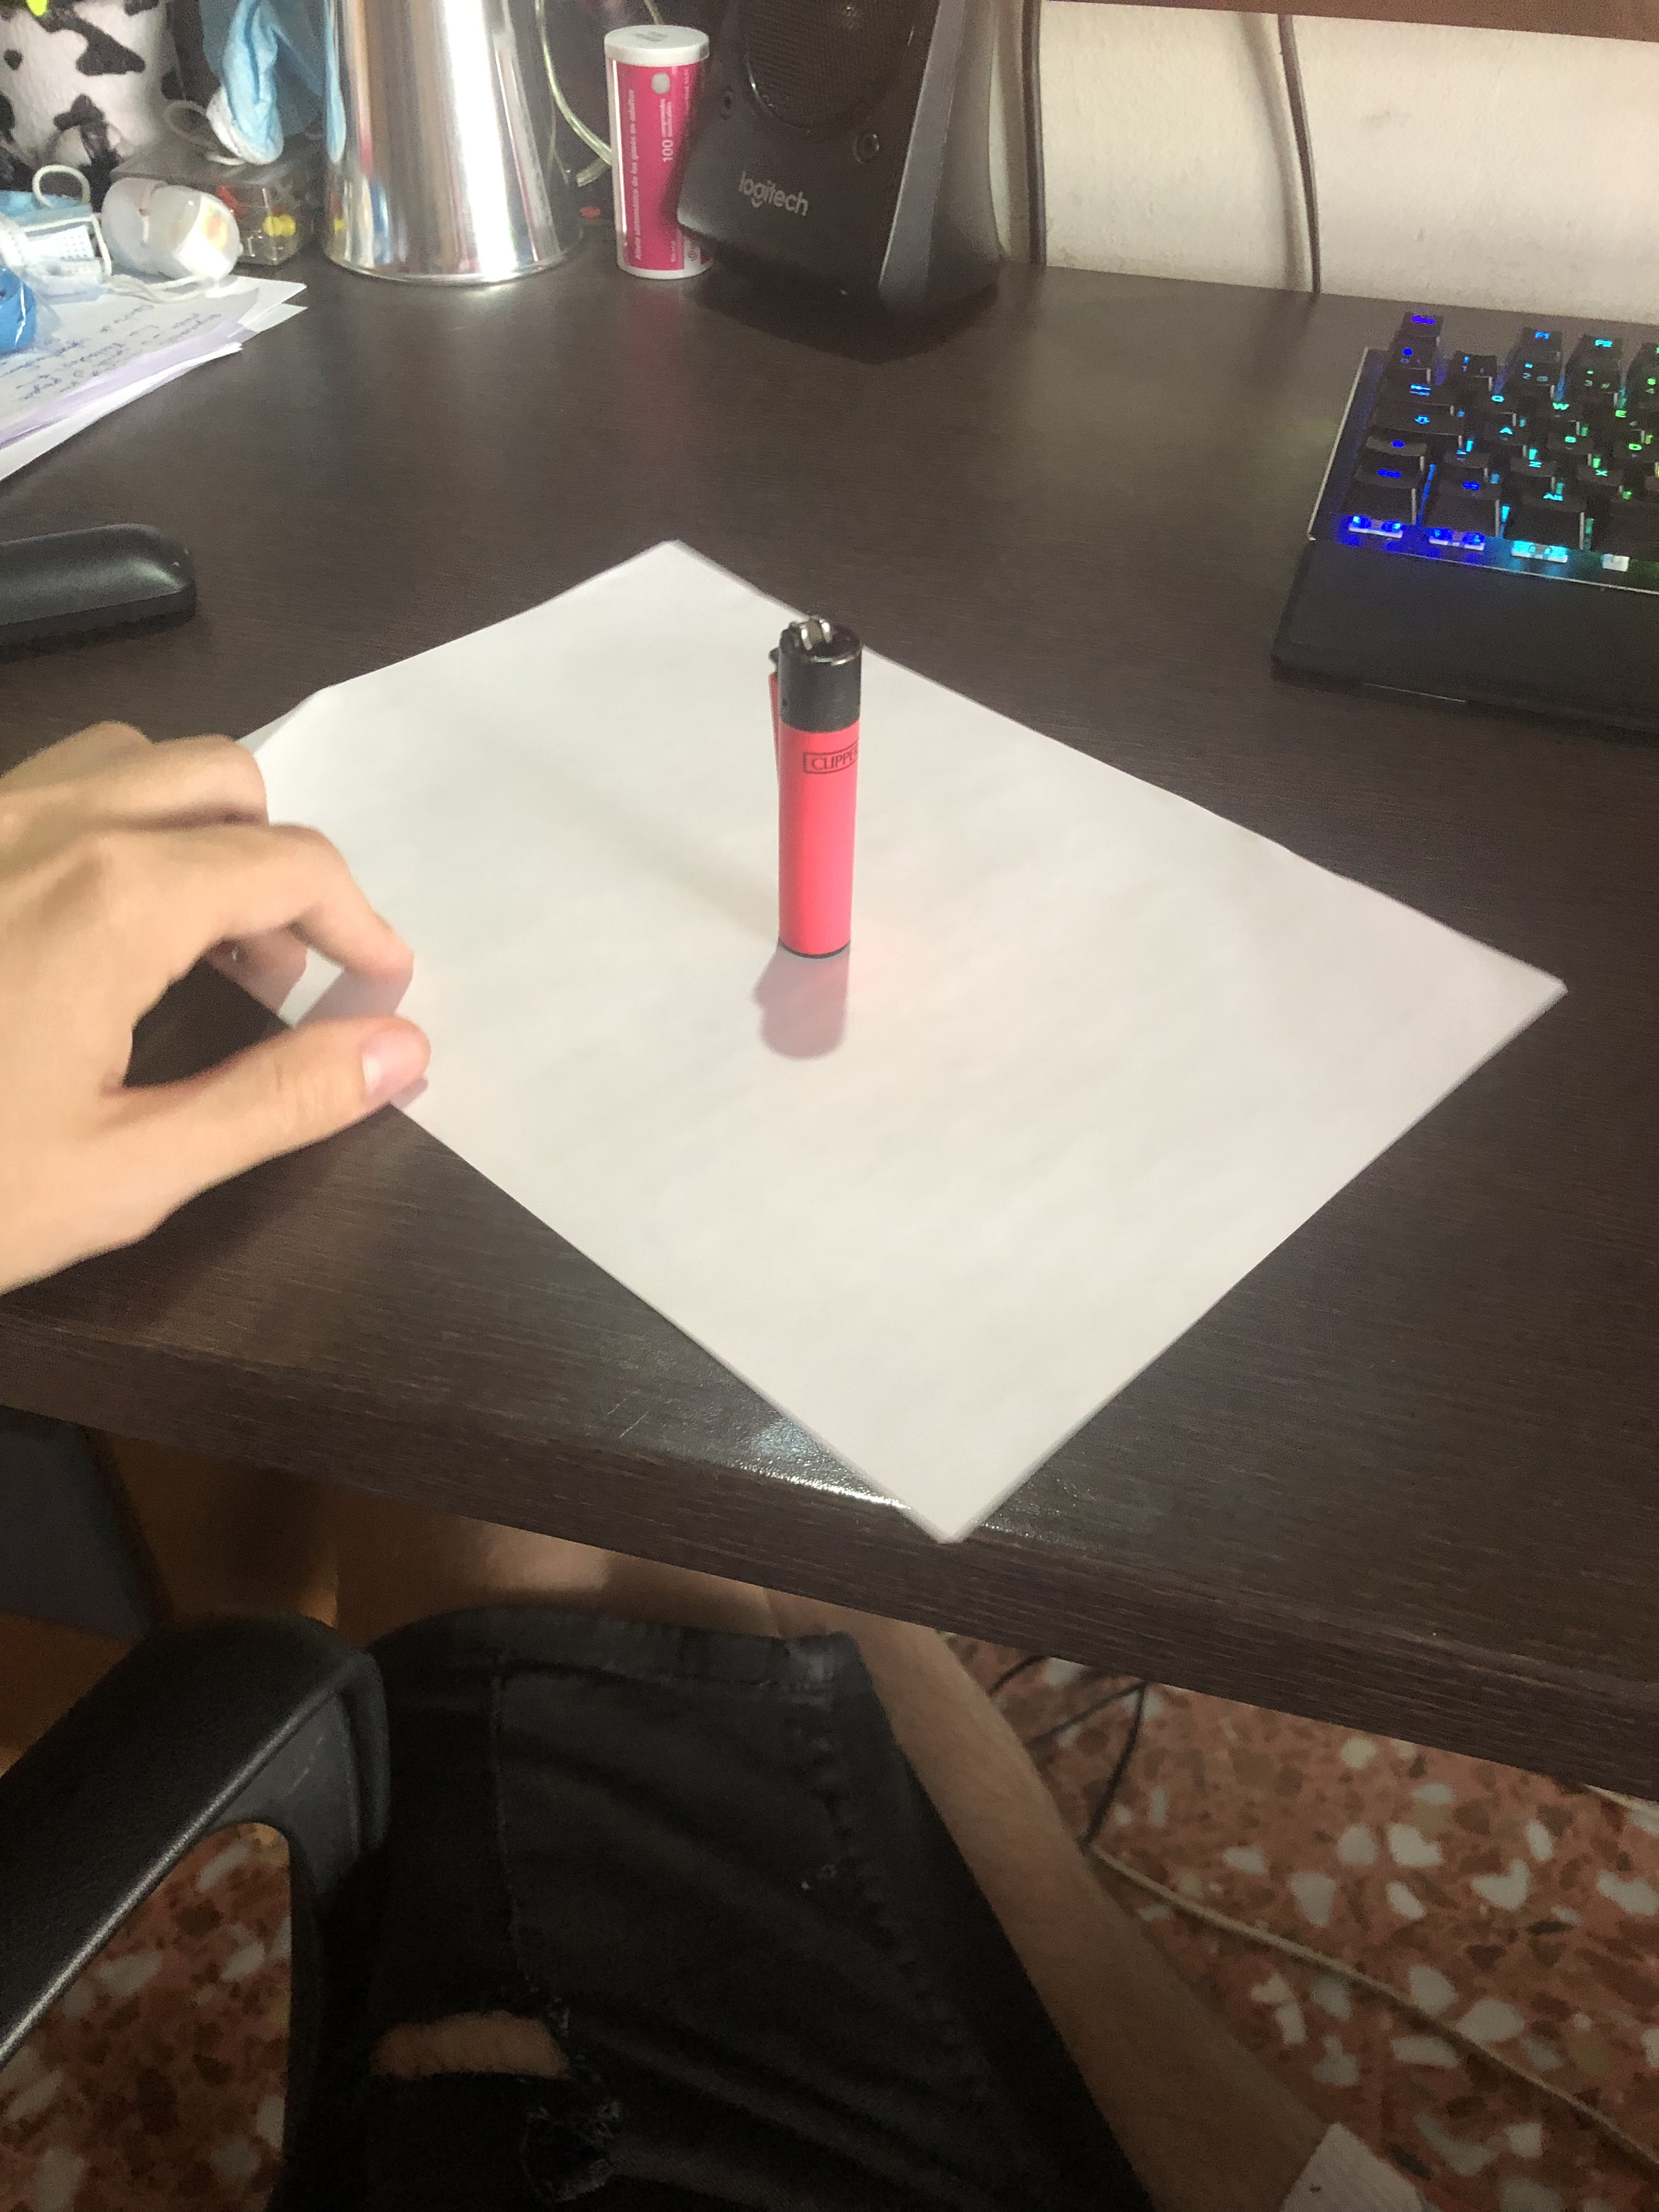Mechero: (751, 603, 880, 975)
